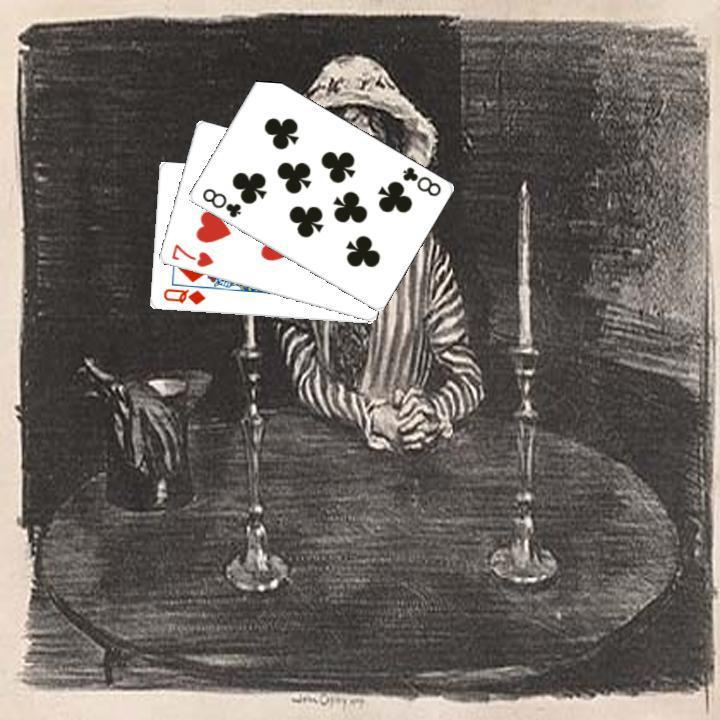7: (167, 240, 215, 269)
8: (397, 162, 443, 199), (197, 184, 243, 220)
Q: (159, 284, 207, 307)
